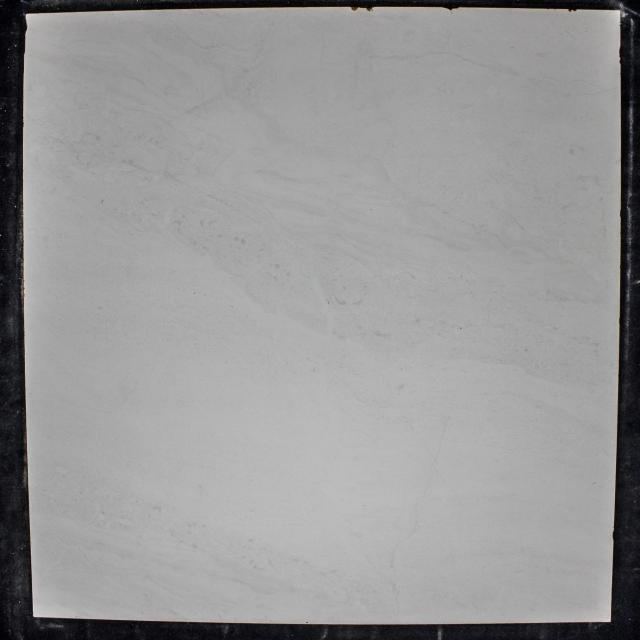edge-chipping: (441, 6, 459, 11), (24, 13, 28, 33), (365, 6, 374, 12), (567, 8, 577, 13), (350, 6, 359, 11), (619, 45, 621, 58), (619, 59, 621, 64)
